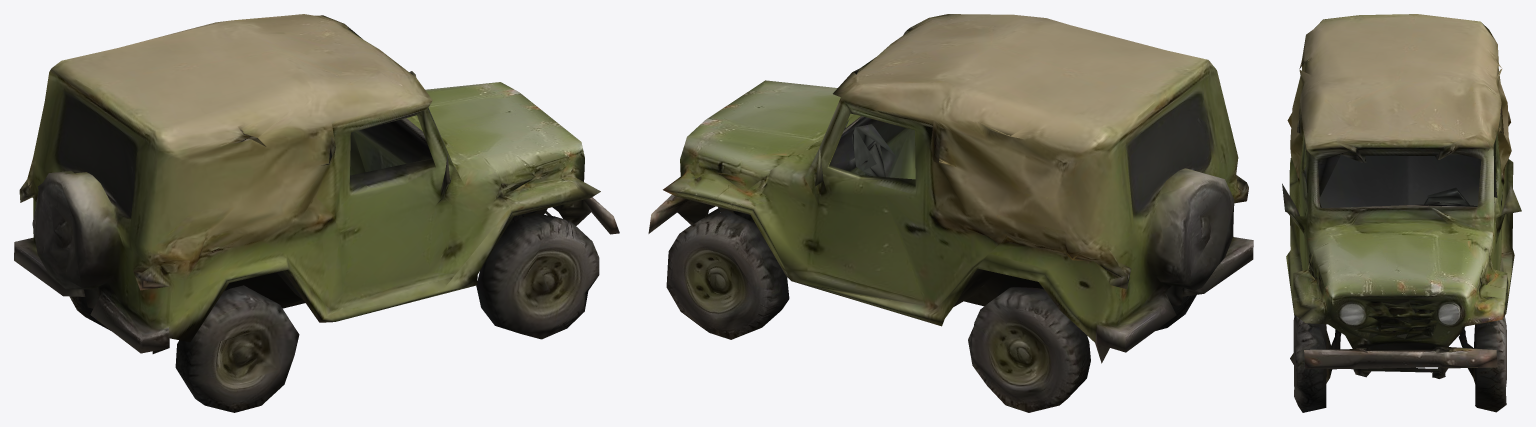
File: e_uaz.glb
3 views of the same model, side by side, from view 1: azimuth 30°, elevation 25°; view 2: azimuth 150°, elevation 25°; view 3: azimuth 270°, elevation 25° (orthographic). The views are drawn at different scales.
Parts seen in each view (by area): view 1: tripo_node_4929d042-7bdd-4e64-a2a7-7dabb21d4bcc; view 2: tripo_node_4929d042-7bdd-4e64-a2a7-7dabb21d4bcc; view 3: tripo_node_4929d042-7bdd-4e64-a2a7-7dabb21d4bcc.
Part boxes in pixels (<box>): tripo_node_4929d042-7bdd-4e64-a2a7-7dabb21d4bcc: <box>14,14,619,412</box>; tripo_node_4929d042-7bdd-4e64-a2a7-7dabb21d4bcc: <box>648,14,1253,412</box>; tripo_node_4929d042-7bdd-4e64-a2a7-7dabb21d4bcc: <box>1282,14,1521,412</box>.
Size of the model in its own units: 1 by 0.5519 by 0.4979.
1 material, 1 textured.
